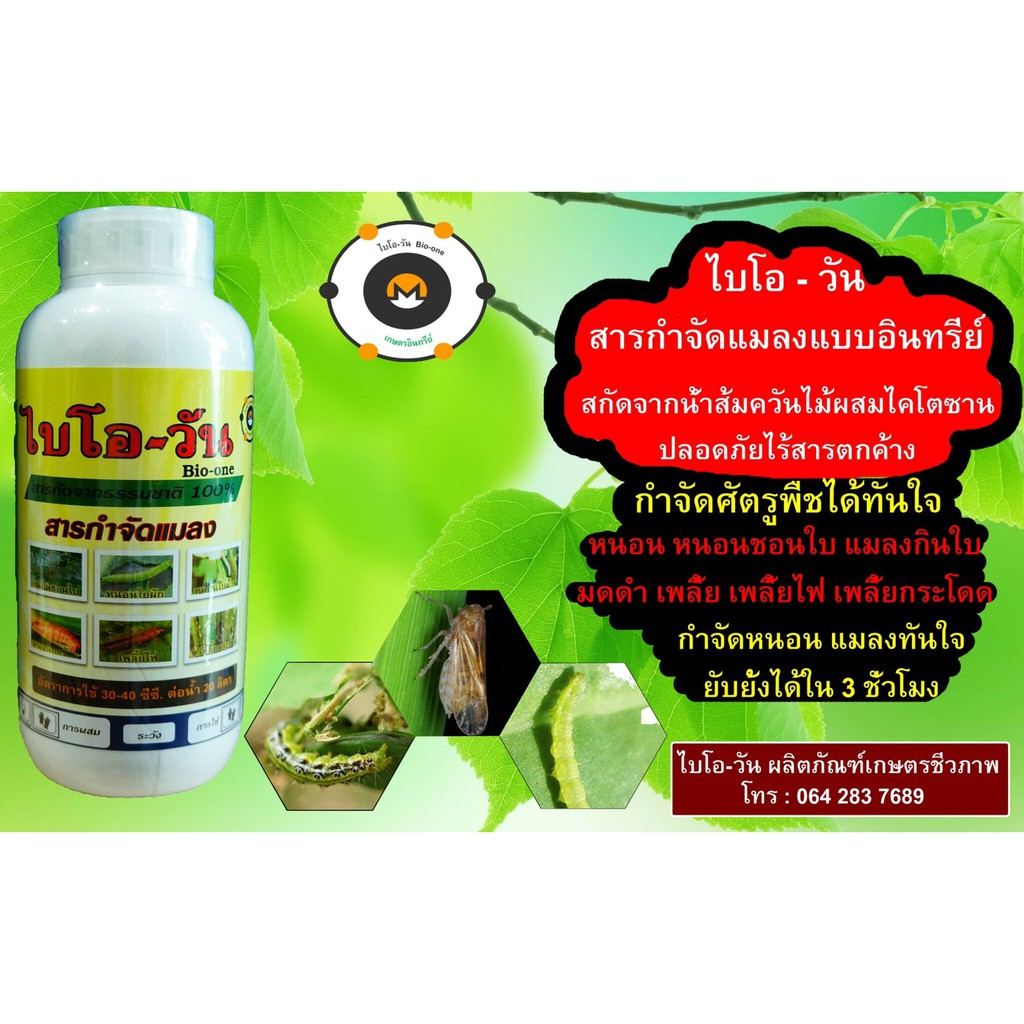Insecticide: (7, 198, 263, 811)
